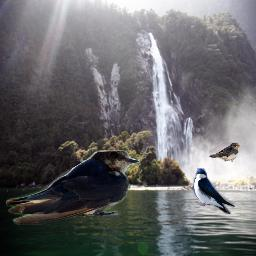Swallow: (6, 150, 140, 225), (193, 168, 235, 214), (209, 142, 240, 162)
